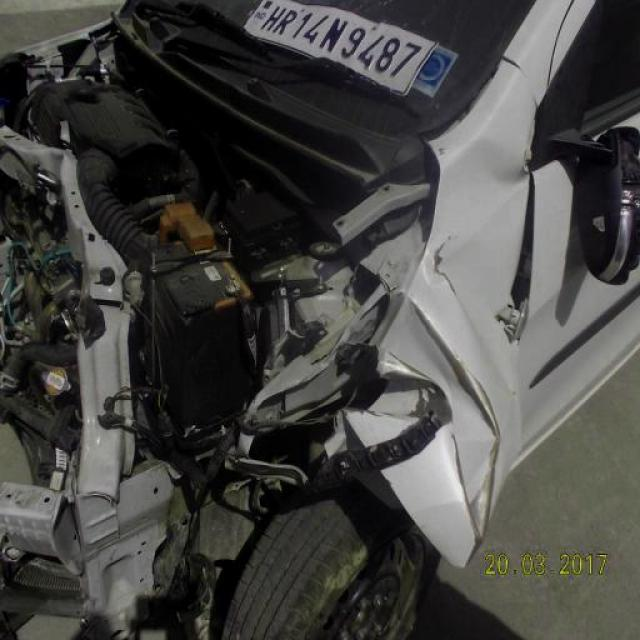Car-Damage: (3, 8, 512, 628), (484, 176, 540, 354)
